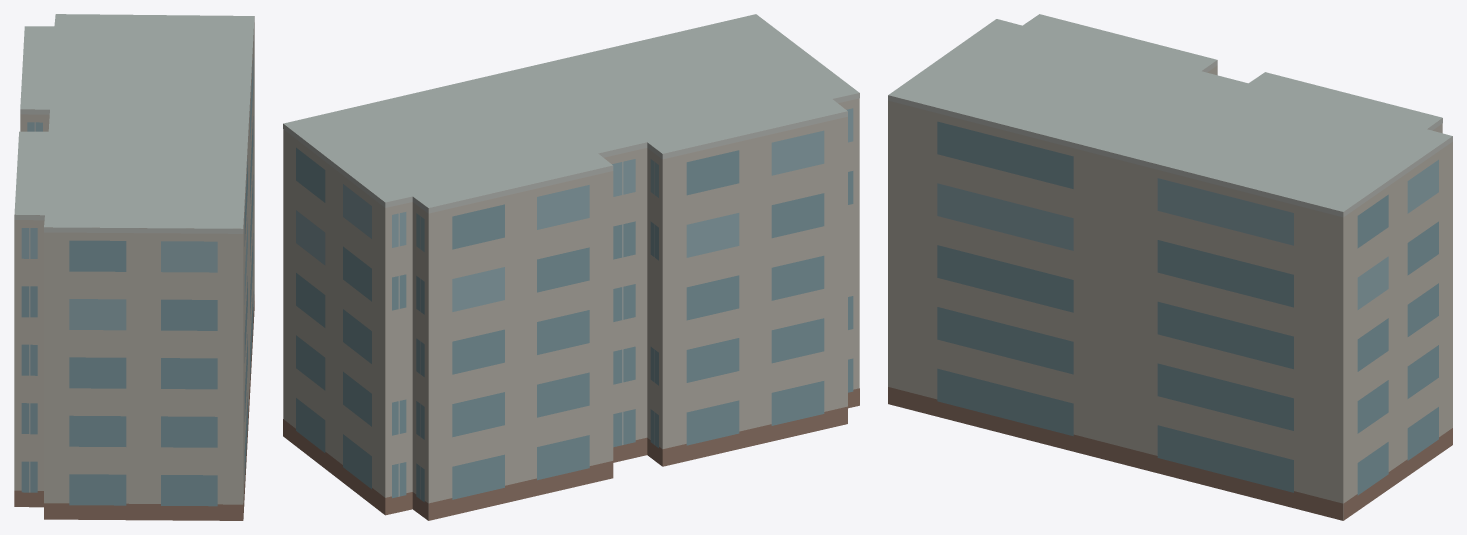
File: survey-upis-32693164.glb
3 renders of one model, left to right at view 1: azimuth 30°, elevation 25°; view 2: azimuth 150°, elevation 25°; view 3: azimuth 270°, elevation 25°, orthographic. The views are drawn at different scales.
Parts seen in each view (by area): view 1: survey-upis-32693164.tmp; view 2: survey-upis-32693164.tmp; view 3: survey-upis-32693164.tmp.
Part boxes in pixels (x1=…): survey-upis-32693164.tmp: x1=14, y1=14, x2=254, y2=520; survey-upis-32693164.tmp: x1=283, y1=14, x2=859, y2=520; survey-upis-32693164.tmp: x1=888, y1=14, x2=1452, y2=520.
Bounding box in the file's own units: 19.14 × 13.92 × 23.07.
